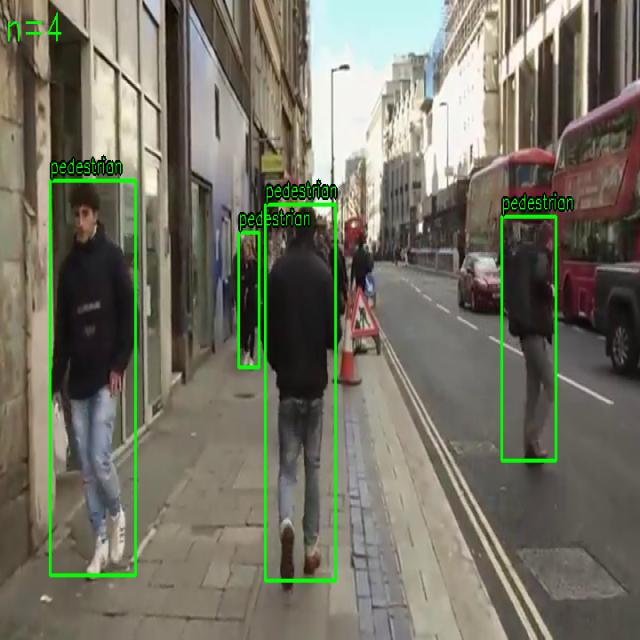with scooter: (50, 180, 136, 576), (265, 204, 336, 581), (502, 216, 556, 461), (238, 232, 260, 368)
